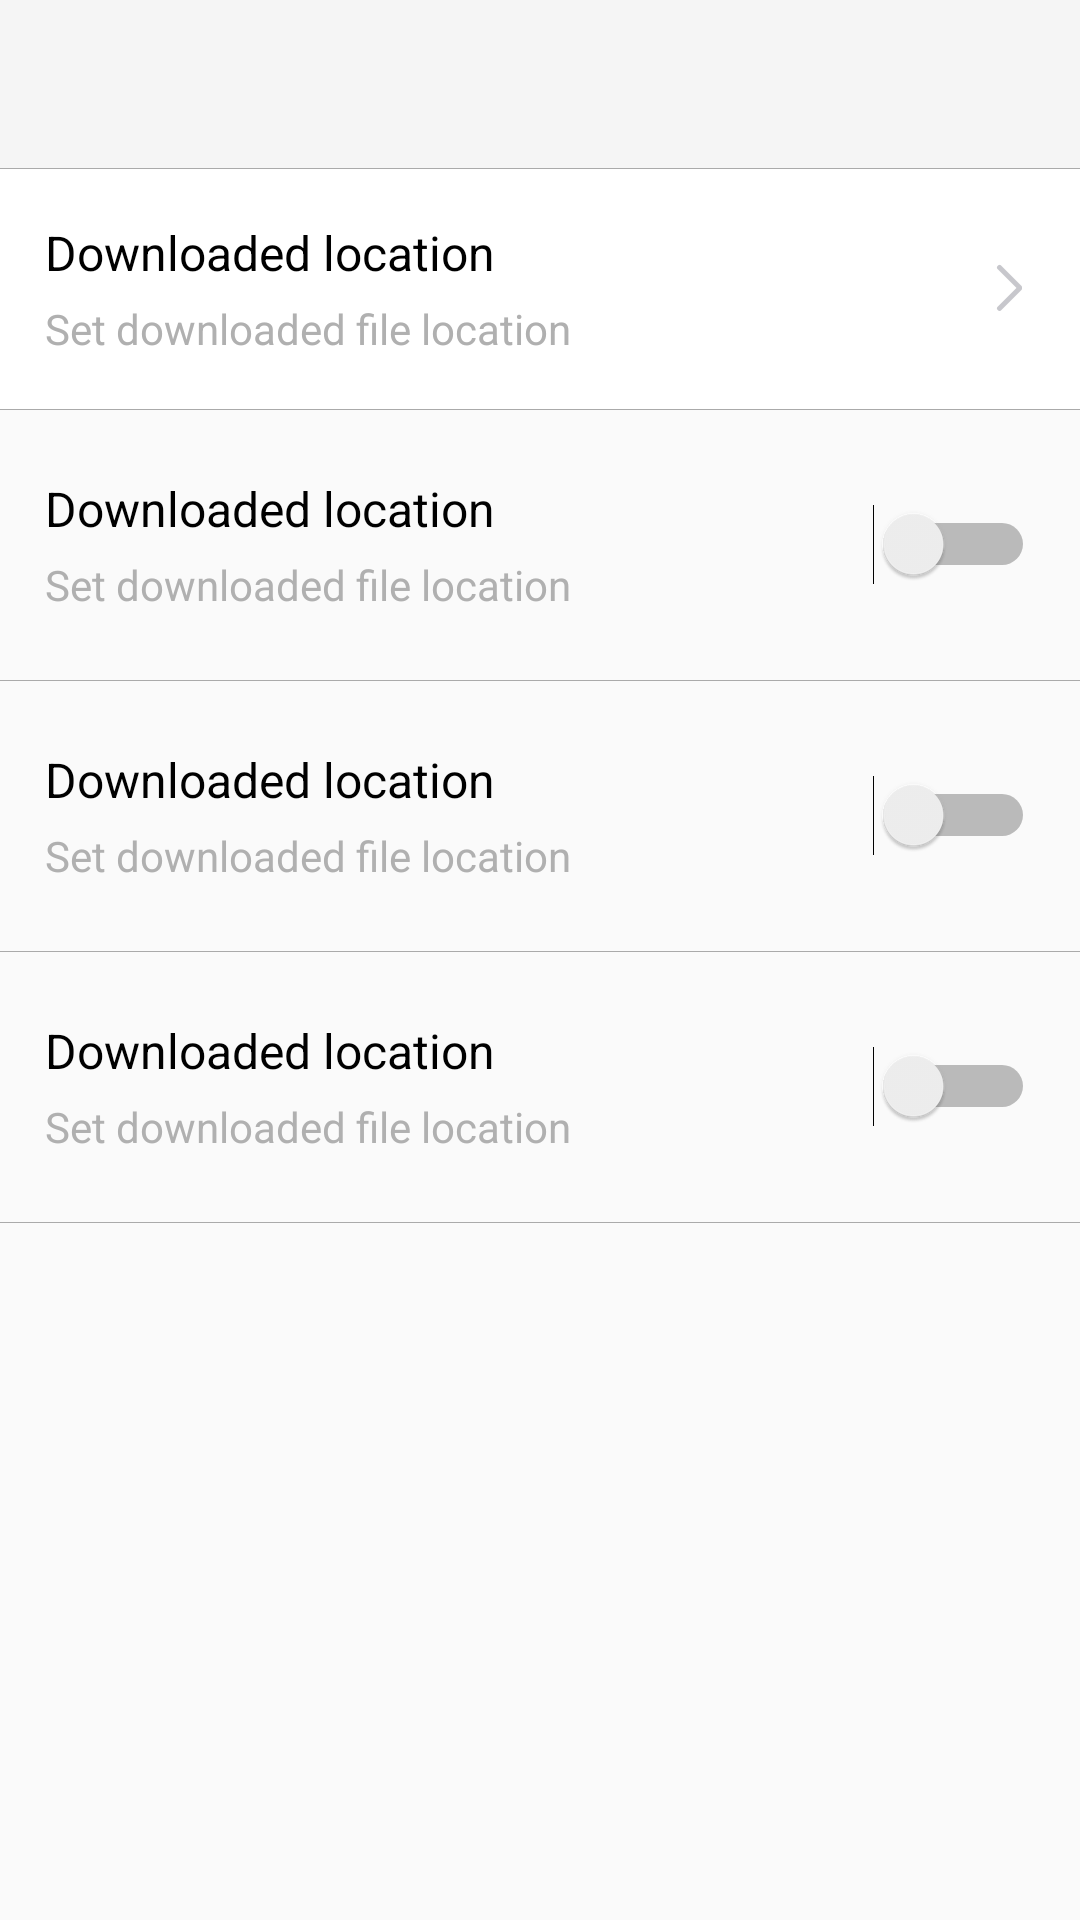

Screen size 1080×1920. Icon name, then its box in pixels as (x1, y1, x2, y2):
item arrow: (997, 265, 1022, 311)
